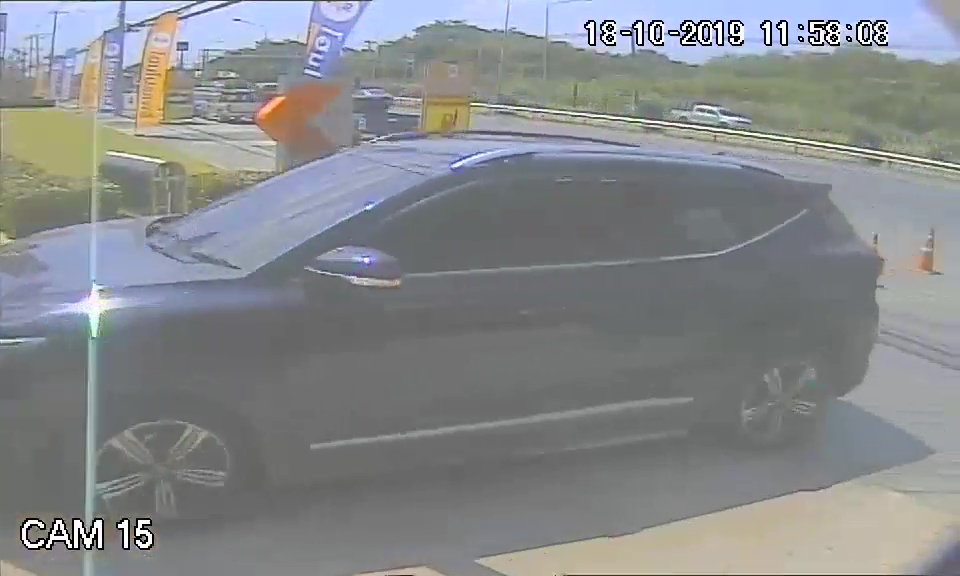pickup: (4, 125, 885, 517)
